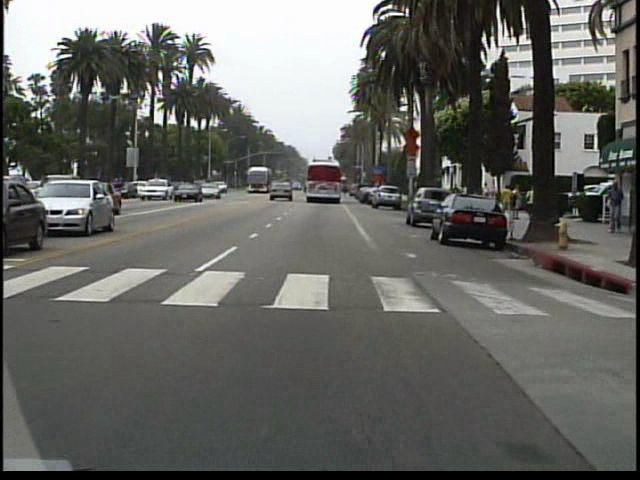person: (600, 176, 625, 239)
